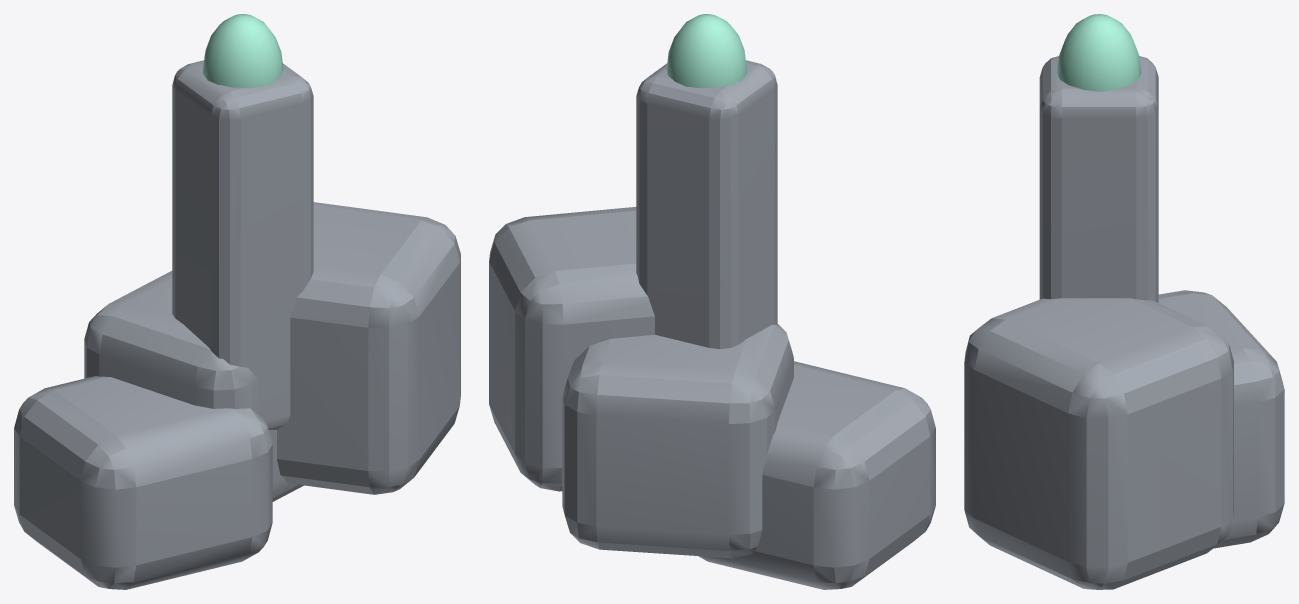
Rendered from region_3.glb.
3 views of the same model, side by side, from view 1: azimuth 30°, elevation 25°; view 2: azimuth 150°, elevation 25°; view 3: azimuth 270°, elevation 25° (orthographic). The views are drawn at different scales.
Parts seen in each view (by area): view 1: Surface_RegionStone3, Surface_MintLens; view 2: Surface_RegionStone3, Surface_MintLens; view 3: Surface_RegionStone3, Surface_MintLens.
Part boxes in pixels (x1,y1,x2,y2): Surface_RegionStone3: (14,60,460,589); Surface_MintLens: (202,14,283,88); Surface_RegionStone3: (489,60,935,589); Surface_MintLens: (666,14,747,88); Surface_RegionStone3: (964,56,1284,589); Surface_MintLens: (1057,14,1141,91).
Size of the model in its own units: 1.95 by 2.35 by 1.29.
